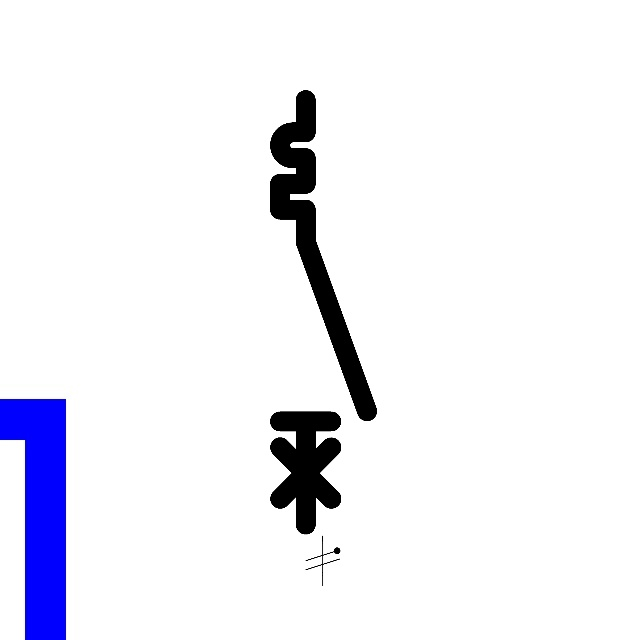interruptor_termomagnetico: (269, 89, 378, 536)
